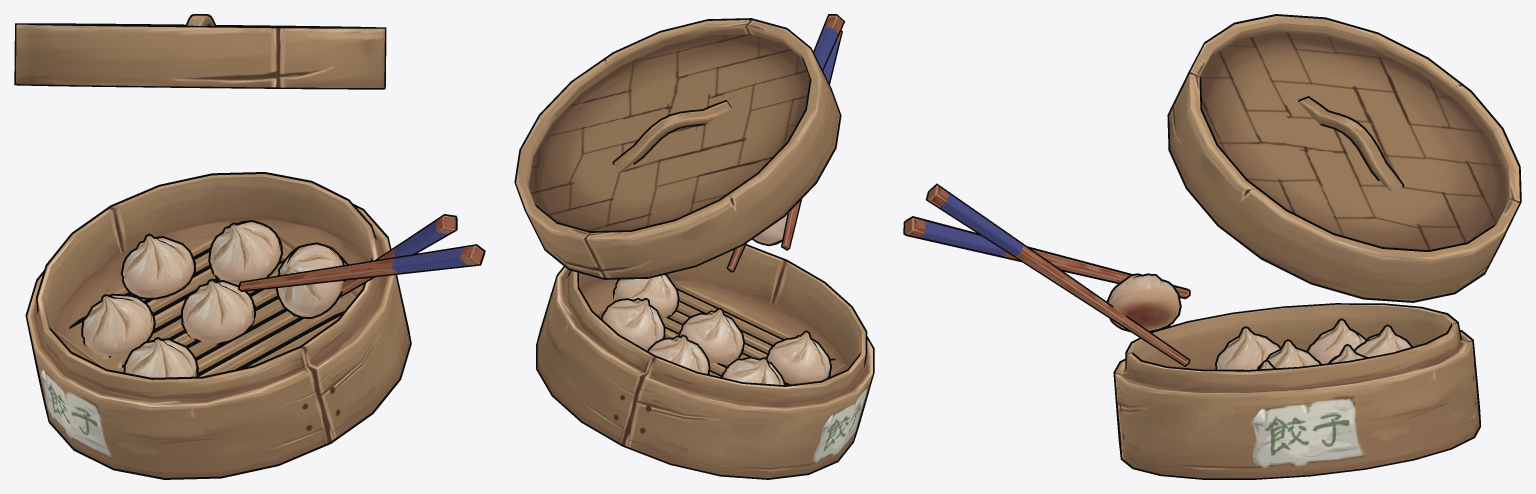
Rendered from dumplings.glb.
The picture shows the model from 3 angles, left to right: view 1: azimuth 30°, elevation 25°; view 2: azimuth 150°, elevation 25°; view 3: azimuth 270°, elevation 25°; orthographic projection. The views are drawn at different scales.
Parts seen in each view (by area): view 1: Object_4, Object_3, Object_5, Object_2; view 2: Object_4, Object_3, Object_5, Object_2; view 3: Object_4, Object_5, Object_3, Object_2.
Boxes of the visible parts, x1=… form: Object_4: x1=16, y1=15, x2=409, y2=477; Object_3: x1=83, y1=222, x2=345, y2=377; Object_5: x1=14, y1=14, x2=485, y2=479; Object_2: x1=239, y1=215, x2=483, y2=294; Object_4: x1=516, y1=20, x2=872, y2=478; Object_3: x1=602, y1=213, x2=830, y2=384; Object_5: x1=514, y1=14, x2=874, y2=479; Object_2: x1=728, y1=15, x2=843, y2=270; Object_4: x1=1115, y1=16, x2=1519, y2=478; Object_5: x1=903, y1=14, x2=1521, y2=479; Object_3: x1=1108, y1=275, x2=1410, y2=369; Object_2: x1=905, y1=185, x2=1188, y2=364.
Bounding box in the file's own units: 5.09 × 6.26 × 8.4.
Materials: 4 (3 with a texture image).
